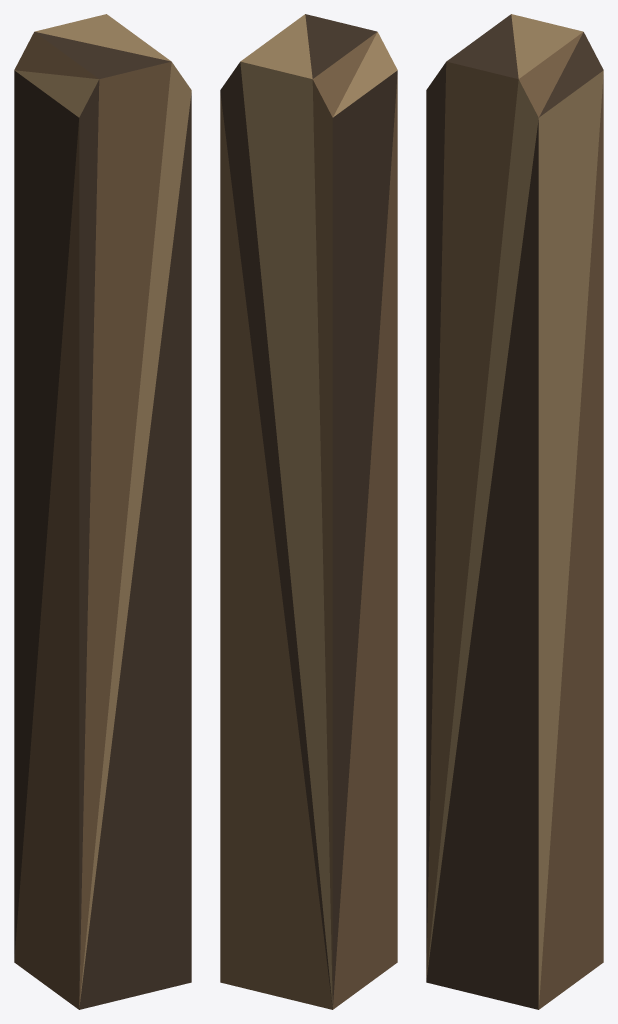
The model's file is TW_TERMINAL_POST.glb.
3 renders of one model, left to right at view 1: azimuth 30°, elevation 25°; view 2: azimuth 150°, elevation 25°; view 3: azimuth 330°, elevation 25°, orthographic.
Parts seen in each view (by area): view 1: TW_TERMINAL_POST_LOD0; view 2: TW_TERMINAL_POST_LOD0; view 3: TW_TERMINAL_POST_LOD0.
Part boxes in pixels (<box>): TW_TERMINAL_POST_LOD0: <box>14,14,191,1009</box>; TW_TERMINAL_POST_LOD0: <box>220,14,397,1009</box>; TW_TERMINAL_POST_LOD0: <box>426,14,603,1009</box>.
Size of the model in its own units: 0.14 by 1.1 by 0.14.
1 material, 1 textured.
